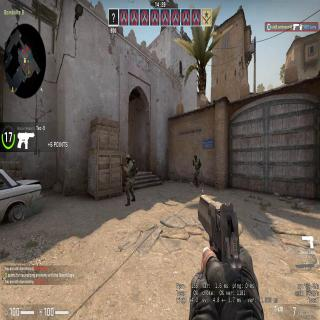CT-Body: (120, 154, 136, 201), (191, 153, 201, 183)
CT-Head: (125, 155, 131, 162), (194, 154, 197, 159)
